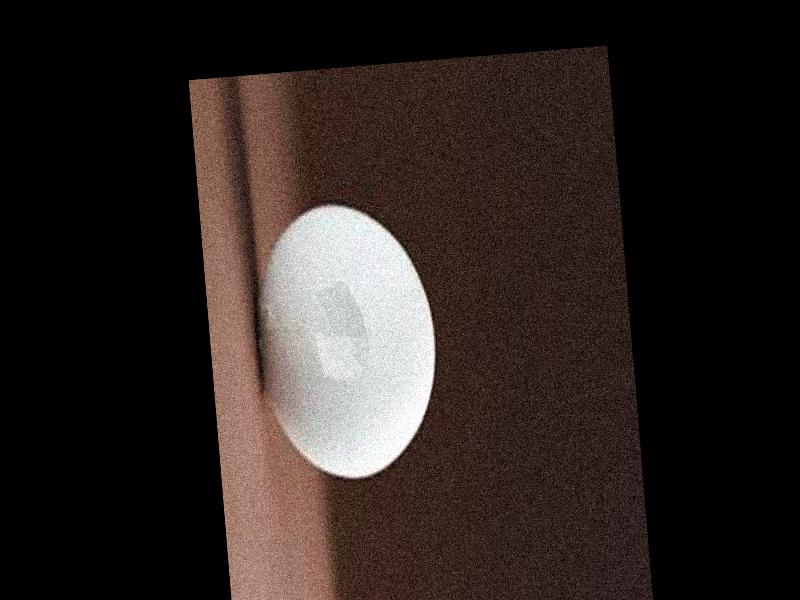Eggs: (247, 201, 445, 484)
